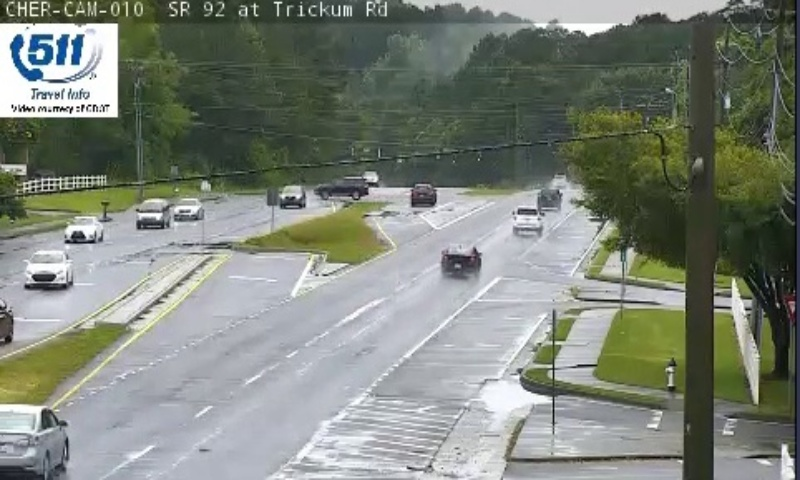car: (441, 245, 481, 276), (512, 203, 542, 232)
